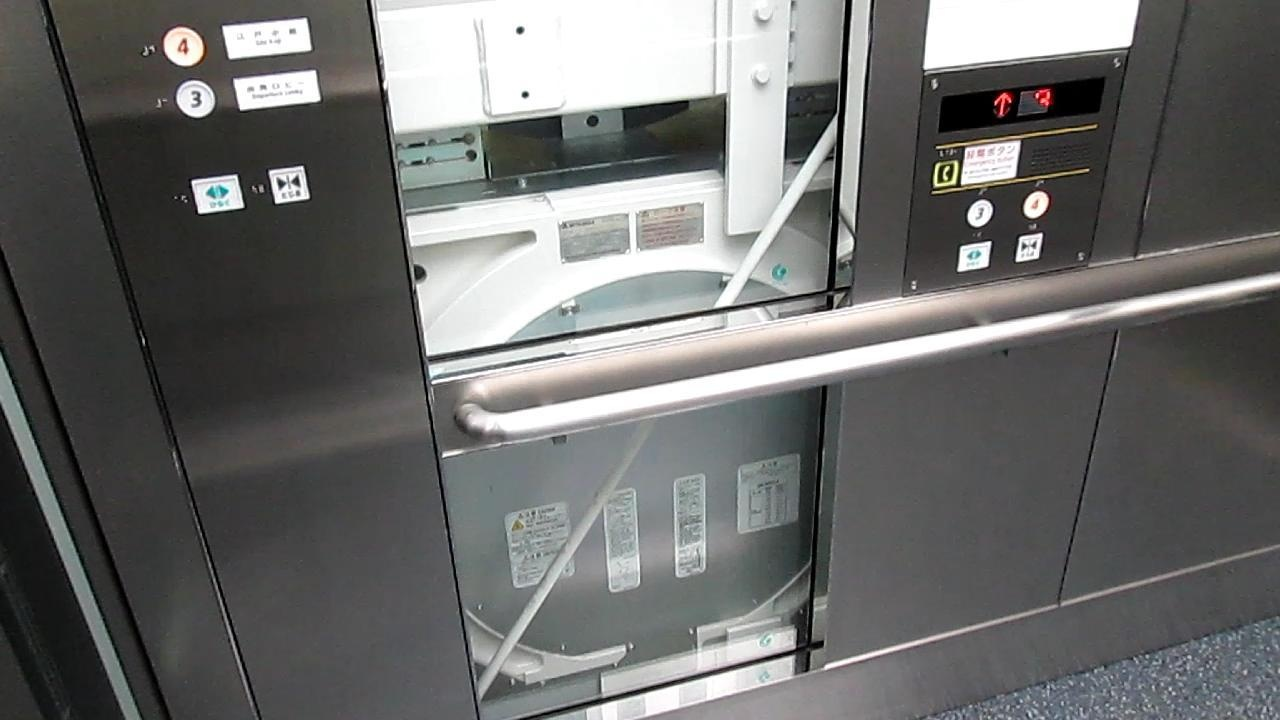3: (174, 75, 217, 118), (964, 197, 997, 229)
4: (161, 25, 207, 68), (1021, 188, 1051, 220)
call: (930, 159, 961, 188)
close: (267, 162, 313, 206), (1012, 228, 1046, 264)
led: (937, 78, 1106, 133)
open: (189, 171, 246, 217), (954, 237, 995, 273)
